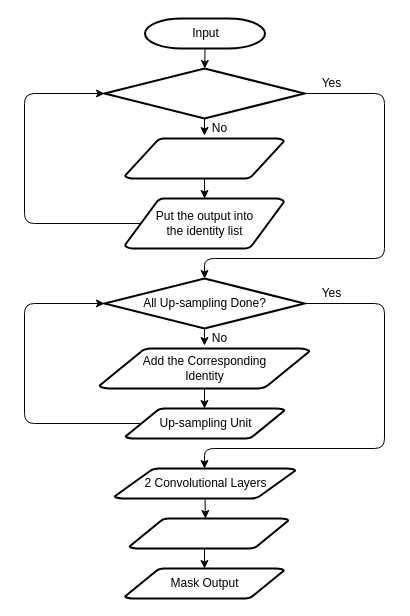
The diagram is 410 pixels wide and 616 high, and some of its shapes have lost their labels. The box of each missing label's shape, as (x1, y1, x2, y2) in pixels:
All Down-sampling Done?: (103, 67, 305, 119)
Down-sampling Unit: (124, 137, 284, 179)
Sigmoid Function: (128, 517, 289, 549)
